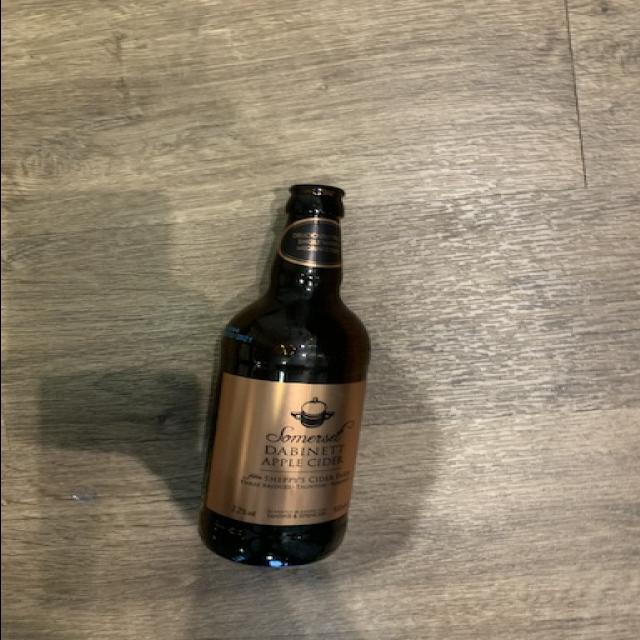Glass Bottle: (200, 170, 373, 569)
